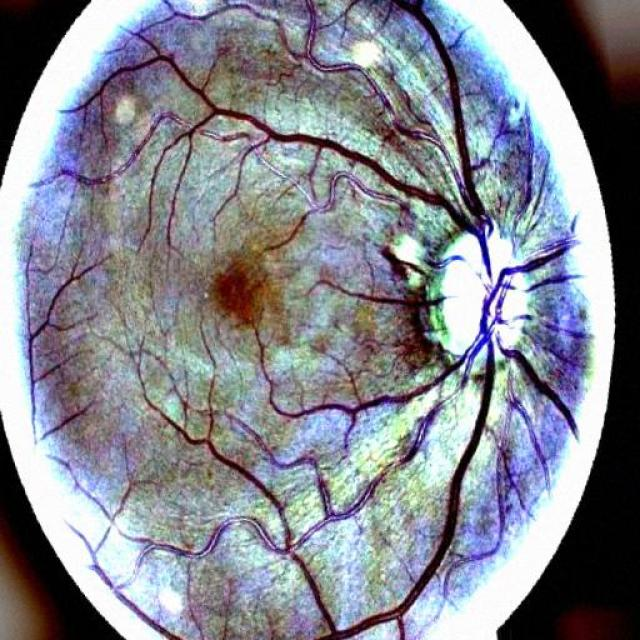Macula: (205, 251, 286, 340)
Nerves: (83, 34, 571, 639)
Optic Disk: (383, 199, 554, 411)
